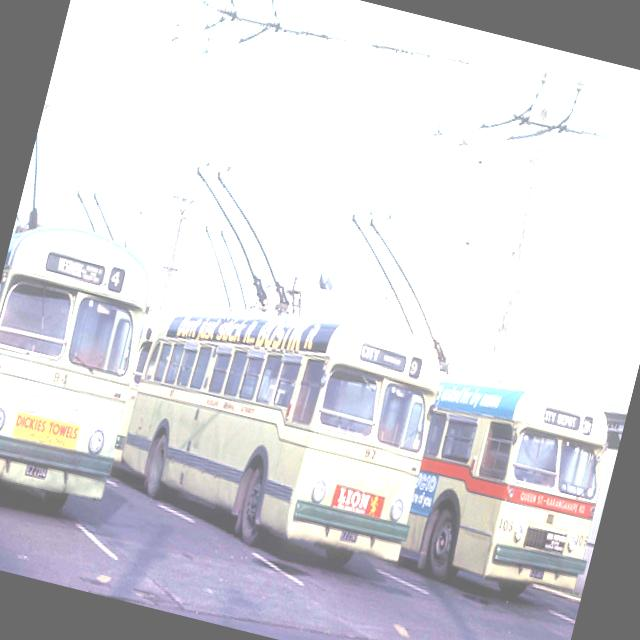Vehicle: (104, 268, 454, 586), (390, 360, 624, 618), (0, 210, 165, 531)
